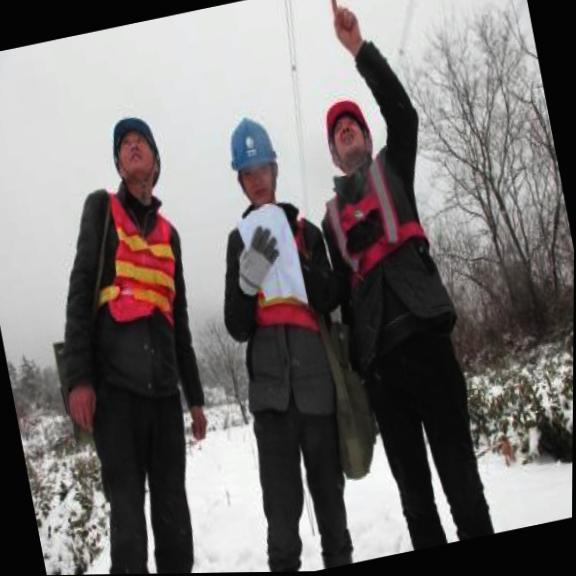no_safety_vest: (308, 135, 438, 305)
safety_vest: (85, 170, 193, 345)
